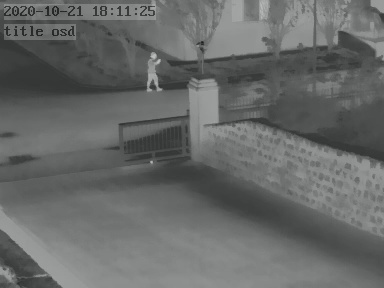person: (145, 49, 161, 92)
